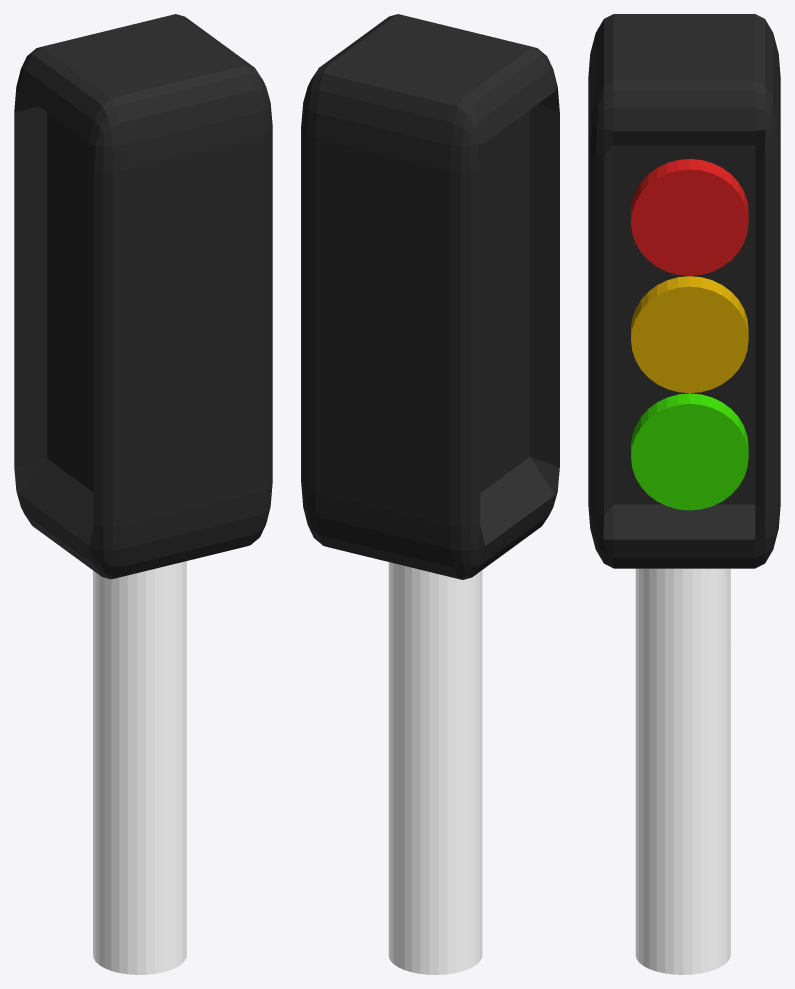
The model's file is TR.RED.glb.
3 renders of one model, left to right at view 1: azimuth 30°, elevation 25°; view 2: azimuth 150°, elevation 25°; view 3: azimuth 270°, elevation 25°, orthographic.
Parts seen in each view (by area): view 1: Cube, Cylinder; view 2: Cube, Cylinder; view 3: Cube, Cylinder, Cylinder.004, Cylinder.003, Cylinder.002.
Boxes of the visible parts, <box> form: Cube: <box>14,14,272,579</box>; Cylinder: <box>93,561,186,974</box>; Cube: <box>301,14,559,579</box>; Cylinder: <box>388,562,482,974</box>; Cube: <box>588,14,780,568</box>; Cylinder: <box>635,568,730,974</box>; Cylinder.004: <box>631,393,748,510</box>; Cylinder.003: <box>631,276,748,393</box>; Cylinder.002: <box>631,159,748,275</box>.
Size of the model in its own units: 2.02 by 9.69 by 1.86.
